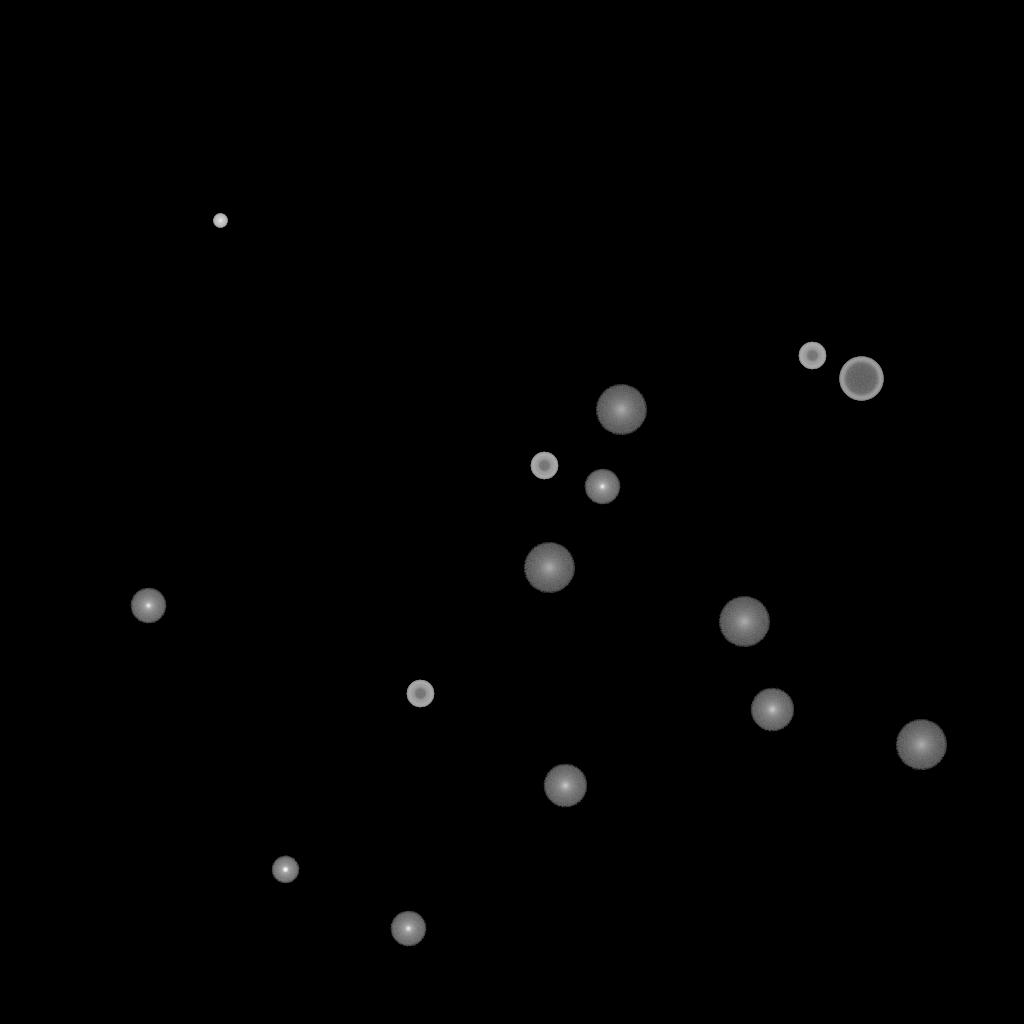depth:-10: (271, 856, 299, 884)
depth:-30: (213, 214, 227, 228)
depth:-50: (798, 342, 826, 370), (406, 680, 434, 708), (530, 452, 558, 480)
depth:-70: (839, 357, 883, 401)
depth:0: (130, 588, 166, 624), (390, 911, 426, 947), (584, 469, 620, 505)
depth:10: (750, 688, 794, 732), (543, 764, 587, 808)
depth:20: (718, 597, 770, 647), (895, 720, 947, 770), (523, 543, 575, 593), (595, 385, 647, 435)
